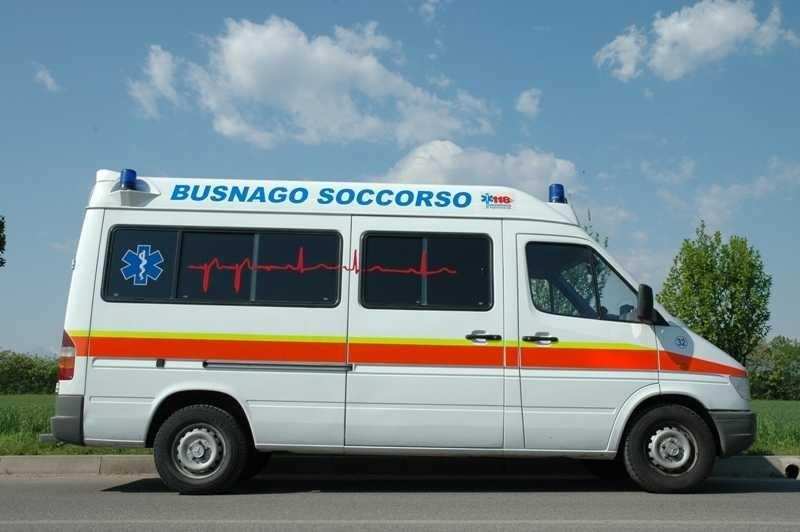car: (41, 167, 757, 494)
